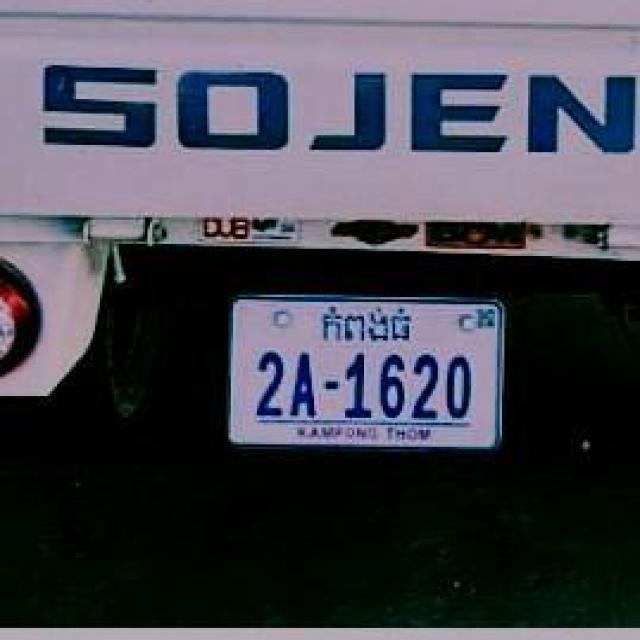Kampong_Thom: (319, 300, 414, 349)
